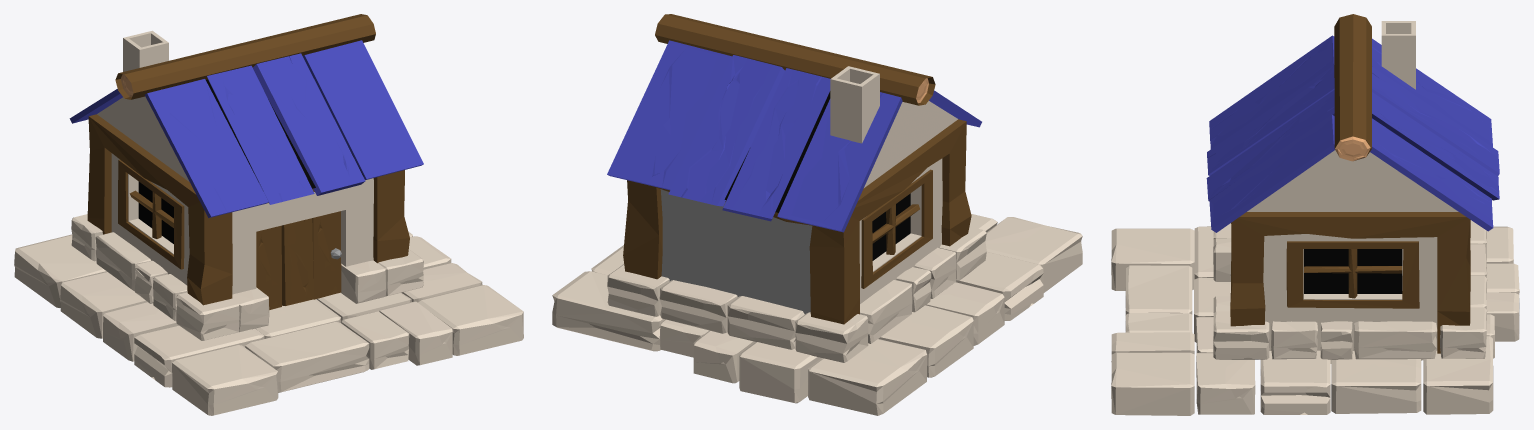
The model's file is Haus 01.fbx.
3 views of the same model, side by side, from view 1: azimuth 30°, elevation 25°; view 2: azimuth 150°, elevation 25°; view 3: azimuth 270°, elevation 25° (orthographic). The views are drawn at different scales.
Parts seen in each view (by area): view 1: Cube.001; view 2: Cube.001; view 3: Cube.001.
Boxes of the visible parts, x1=… form: Cube.001: x1=14, y1=14, x2=523, y2=415; Cube.001: x1=552, y1=14, x2=1082, y2=415; Cube.001: x1=1111, y1=14, x2=1519, y2=415.
Size of the model in its own units: 567 by 444 by 605.
